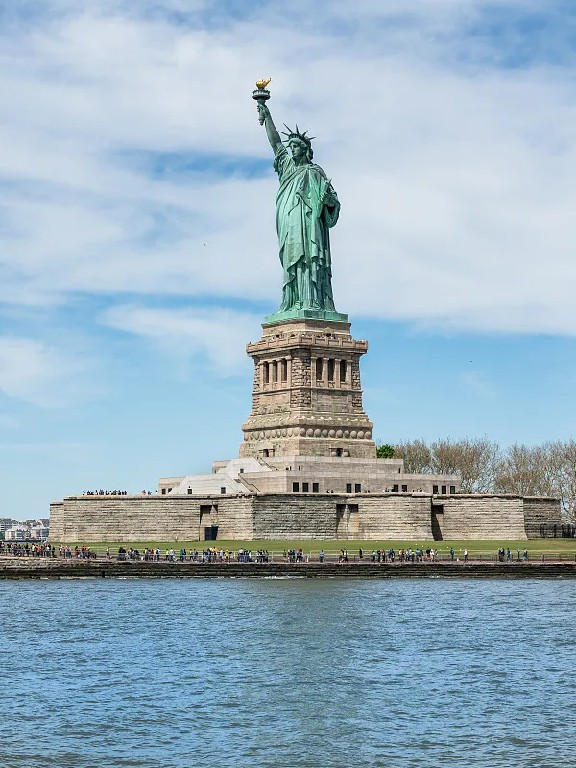SL: (238, 76, 378, 459)
